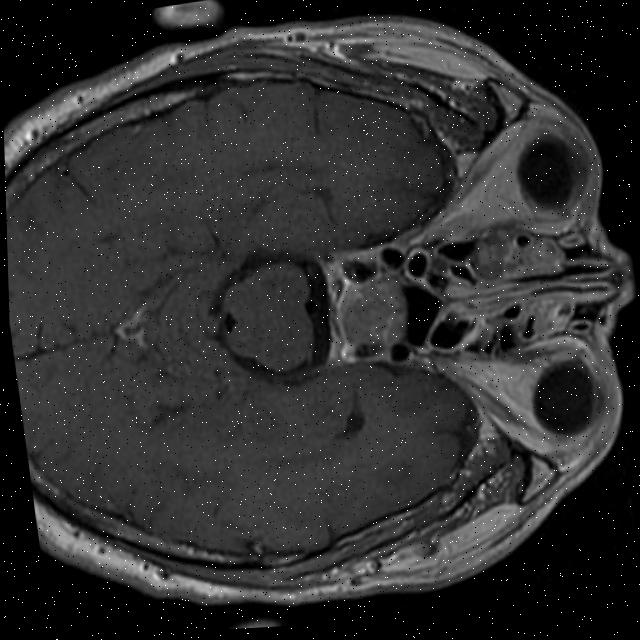Pituitary: (335, 273, 412, 352)
